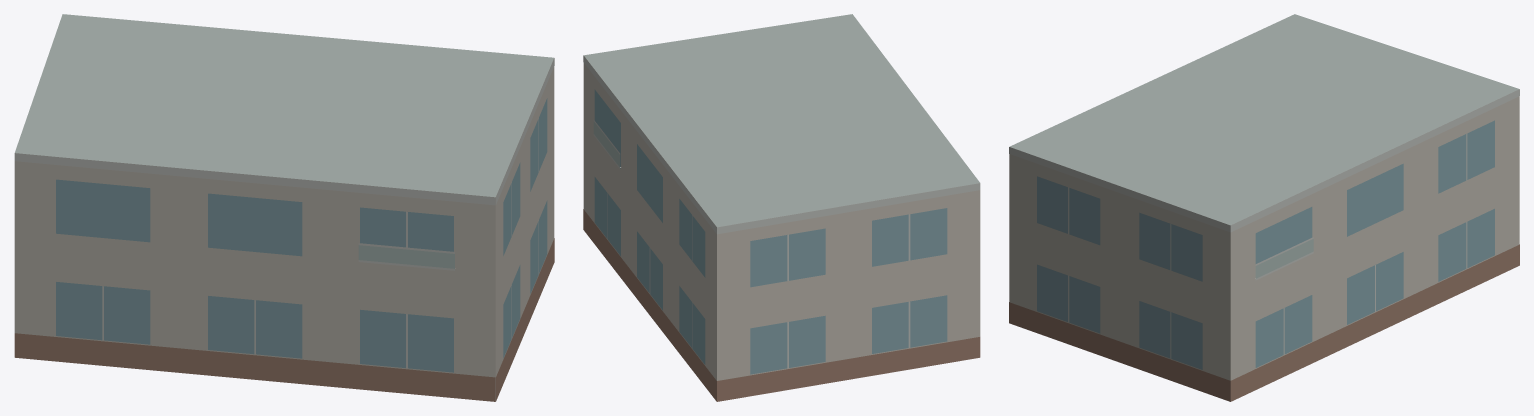
File: survey-upis-32625308.glb
3 renders of one model, left to right at view 1: azimuth 30°, elevation 25°; view 2: azimuth 150°, elevation 25°; view 3: azimuth 270°, elevation 25°, orthographic. The views are drawn at different scales.
Visible parts, largest first — view 1: survey-upis-32625308.tmp; view 2: survey-upis-32625308.tmp; view 3: survey-upis-32625308.tmp.
Part boxes in pixels (x1,y1,x2,y2): survey-upis-32625308.tmp: (14, 14, 554, 401); survey-upis-32625308.tmp: (583, 14, 980, 401); survey-upis-32625308.tmp: (1009, 14, 1519, 401).
Size of the model in its own units: 15.69 by 6.1 by 16.01.
